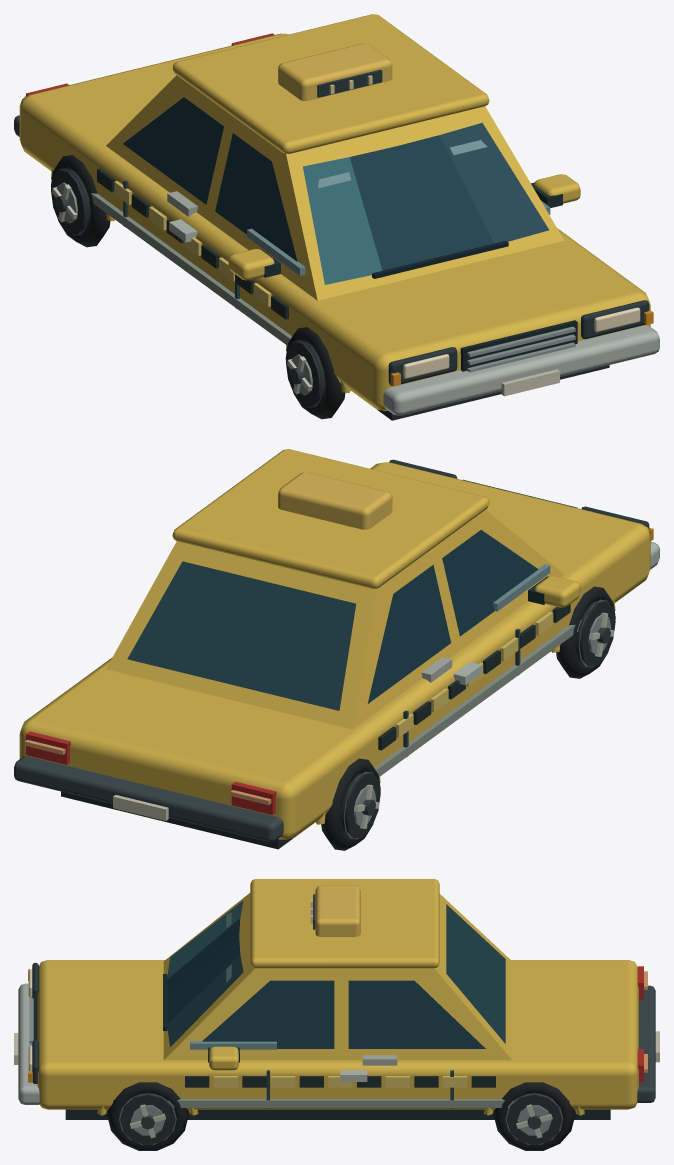
File: taxi.glb
3 renders of one model, top to bottom at view 1: azimuth 30°, elevation 25°; view 2: azimuth 150°, elevation 25°; view 3: azimuth 270°, elevation 25°, orthographic. The views are drawn at different scales.
Parts seen in each view (by area): view 1: taxi_body; view 2: taxi_body; view 3: taxi_body.
Boxes of the visible parts, box(x1,y1,x2,y2) form: taxi_body: box(14, 14, 659, 420); taxi_body: box(14, 449, 659, 850); taxi_body: box(14, 879, 659, 1150).
Bounding box in the file's own units: 2.13 × 1.42 × 4.28.
